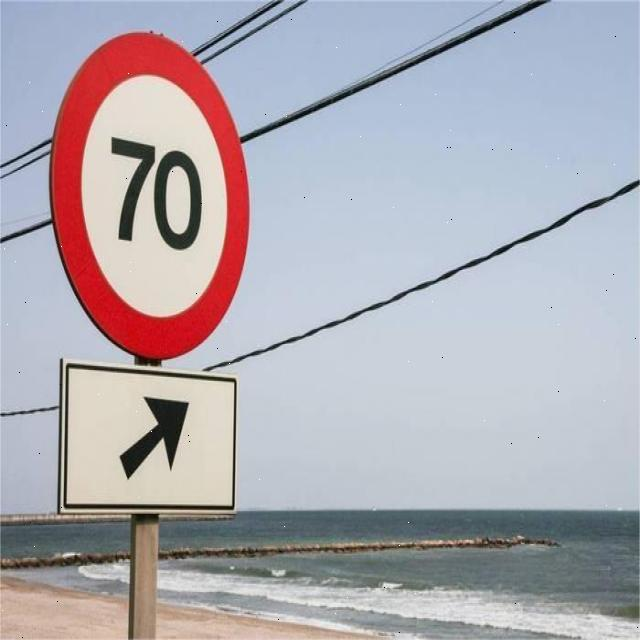speed limit 70: (51, 30, 250, 361)
